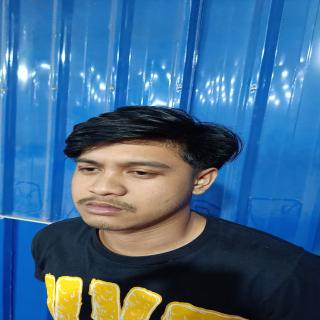Sedih: (68, 132, 198, 237)
